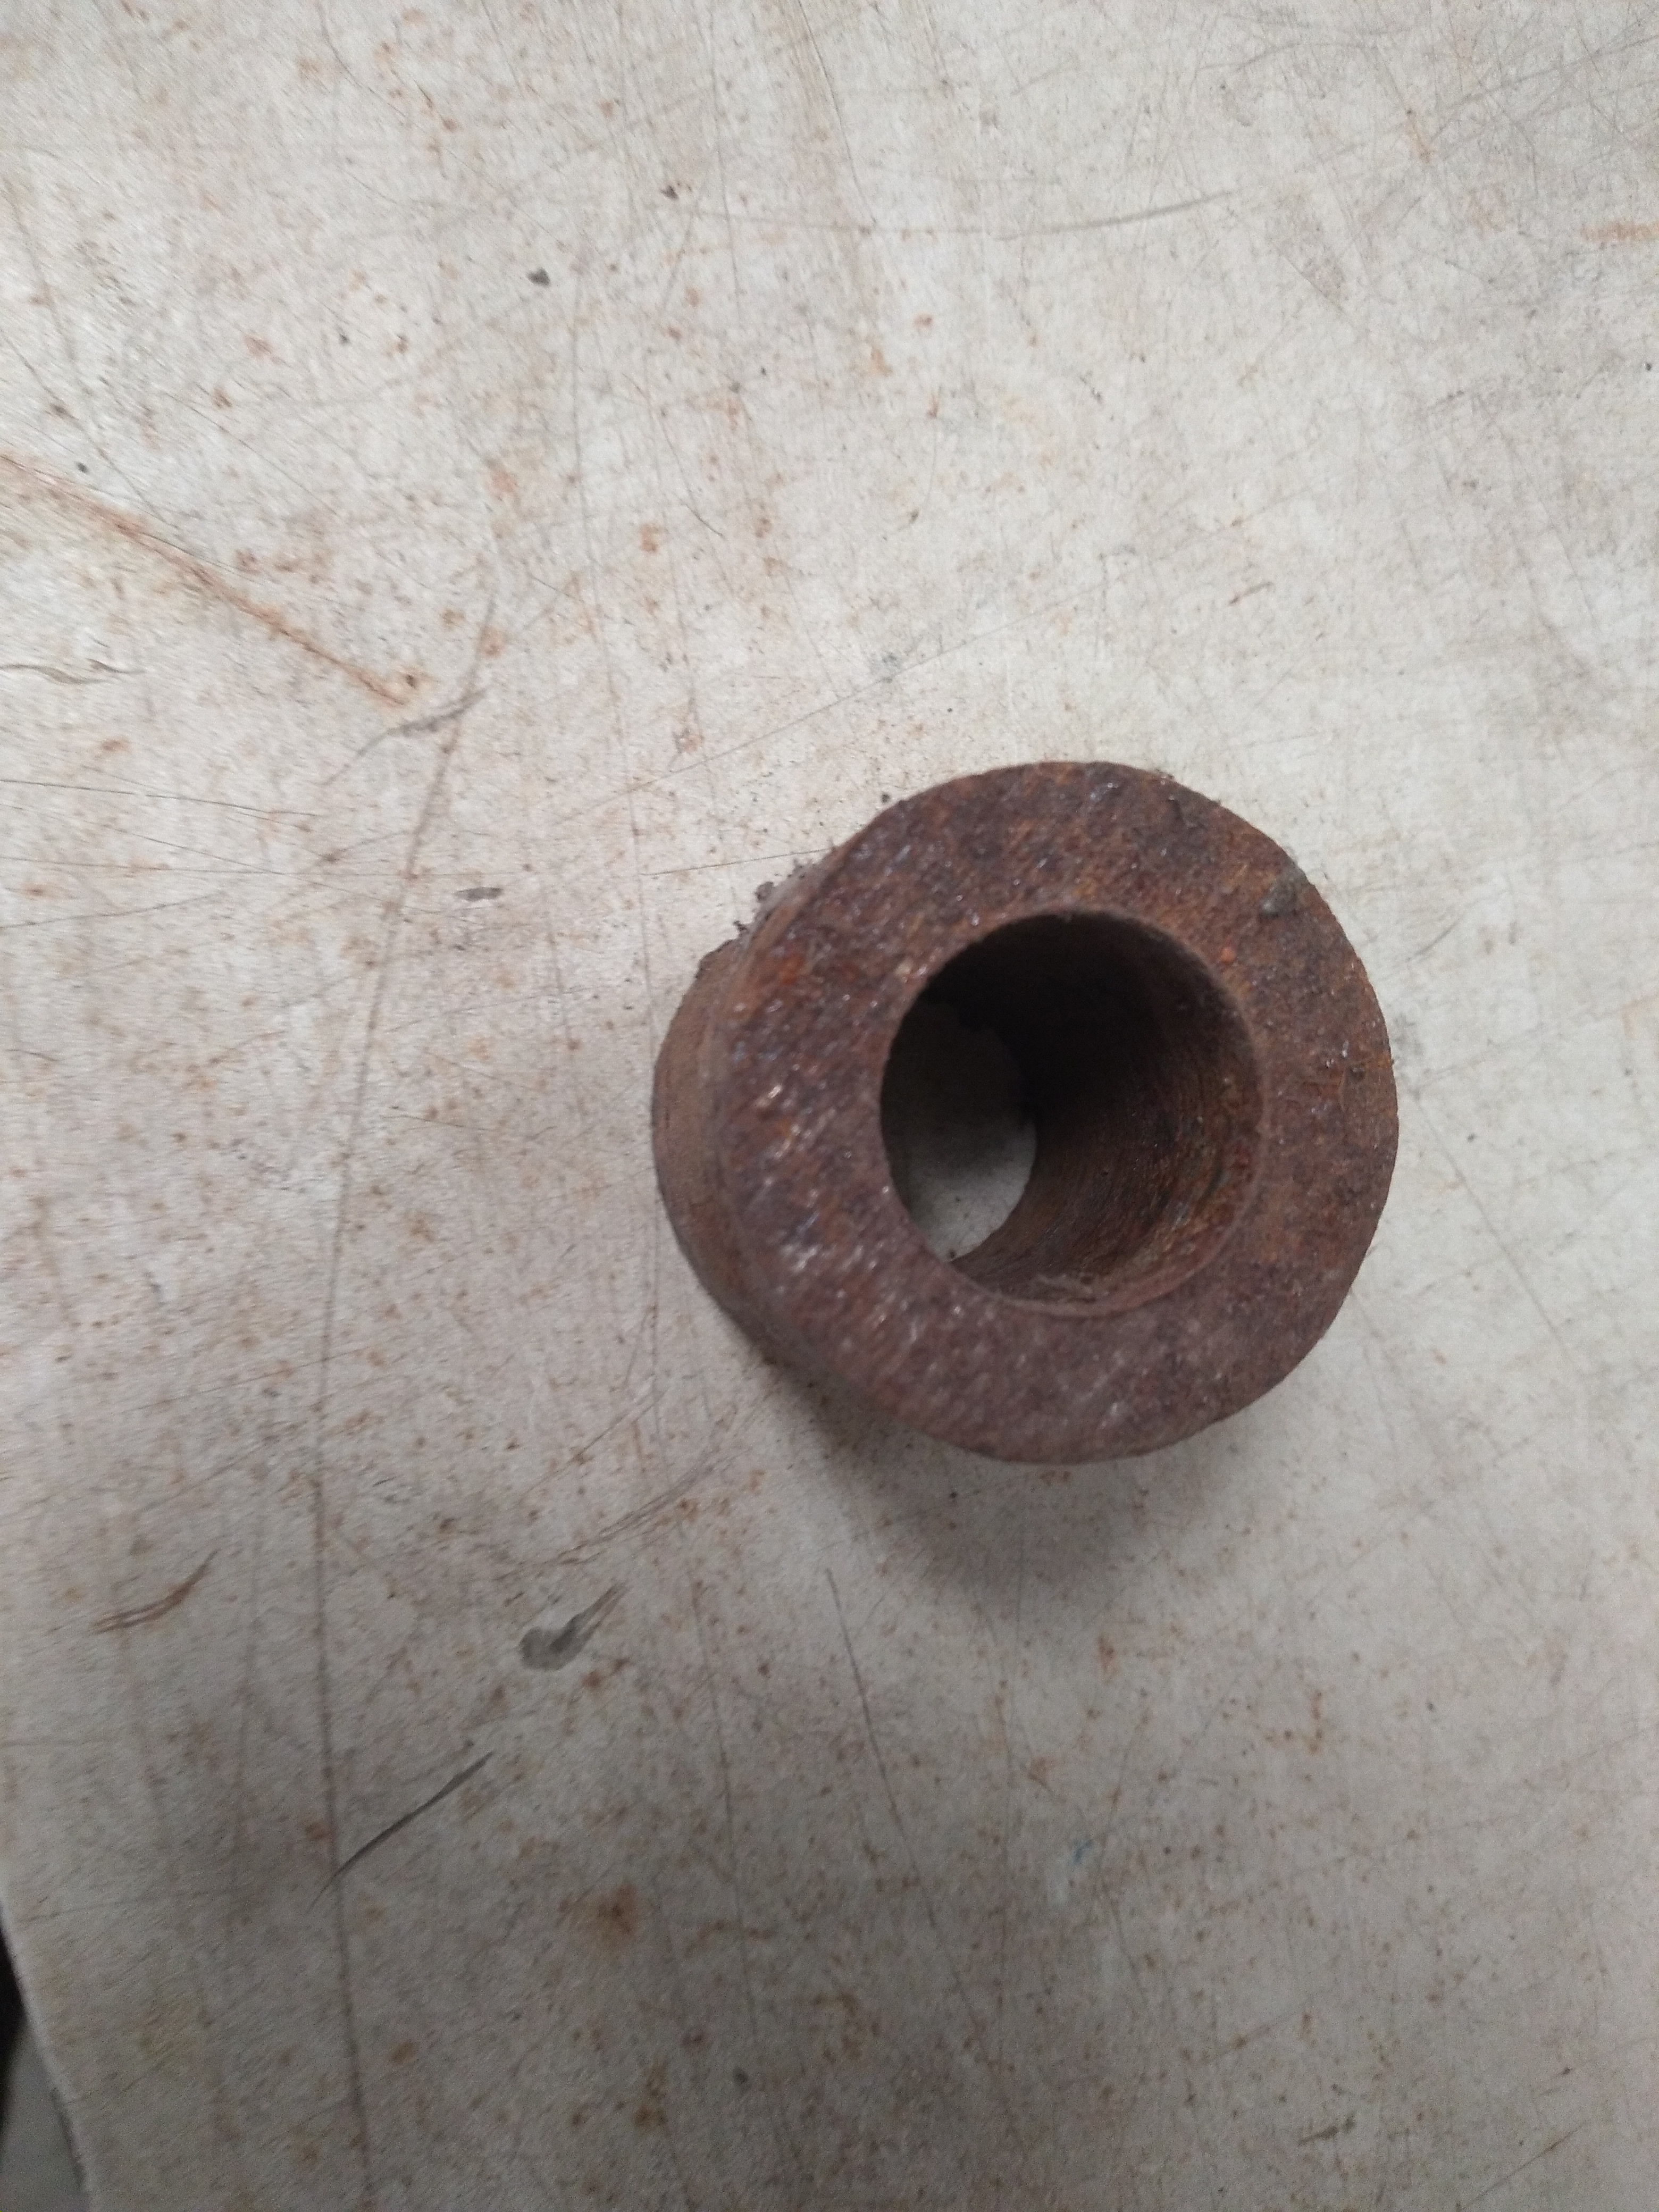No thread: (852, 845, 1326, 1345)
